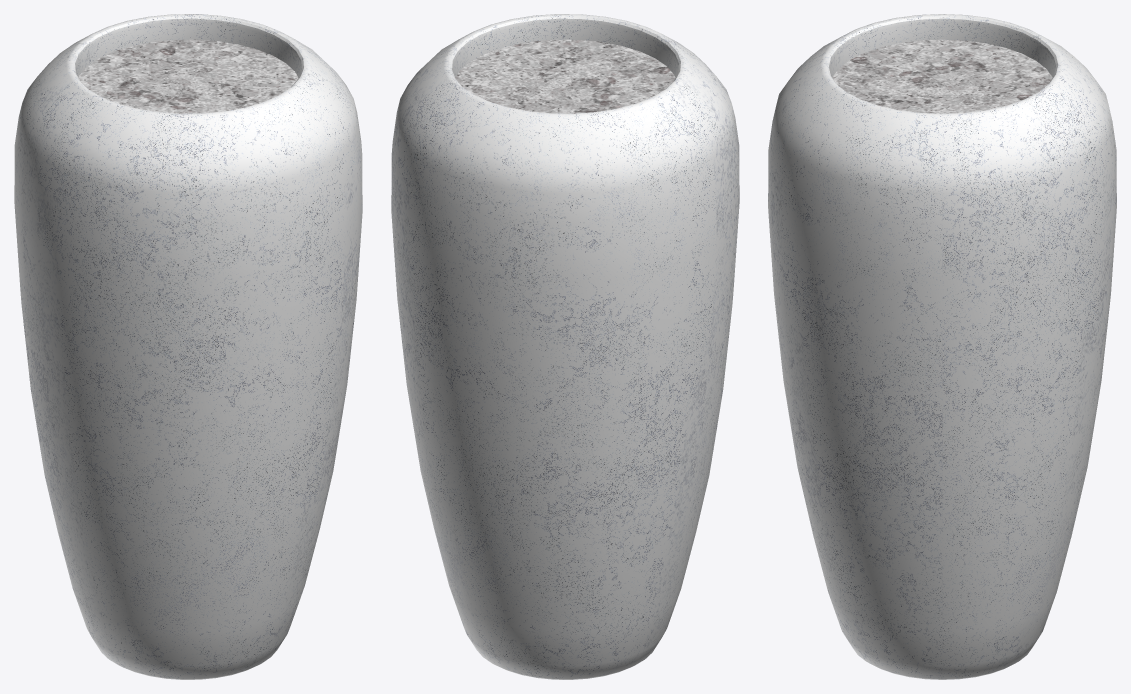
Rendered from Pot_B6.fbx.
3 views of the same model, side by side, from view 1: azimuth 30°, elevation 25°; view 2: azimuth 150°, elevation 25°; view 3: azimuth 270°, elevation 25° (orthographic).
Visible parts, largest first — view 1: Pot_B6; view 2: Pot_B6; view 3: Pot_B6.
Boxes of the visible parts, x1=… form: Pot_B6: x1=14, y1=14, x2=362, y2=679; Pot_B6: x1=391, y1=14, x2=739, y2=679; Pot_B6: x1=768, y1=14, x2=1116, y2=679.
Size of the model in its own units: 0.1626 by 0.2984 by 0.1626.
